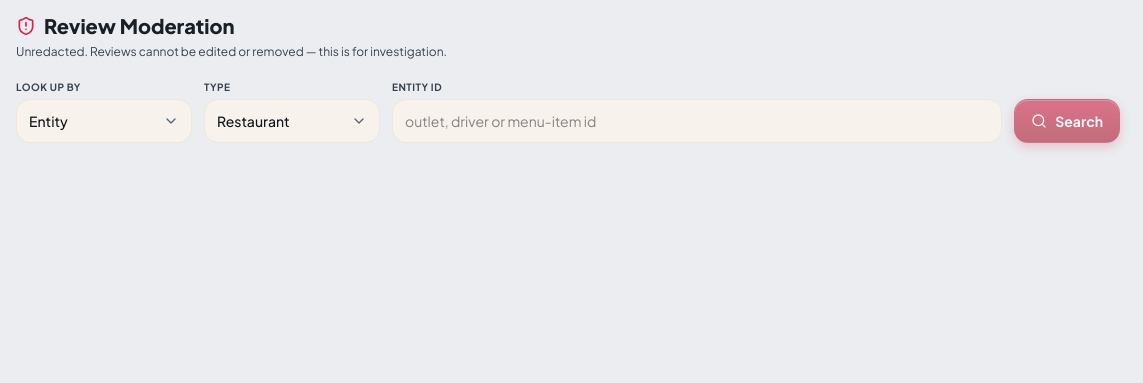
Test: AdminReviewsView › says plainly when nothing was found
Type "77777777-7777-7777-7777-777777777777" into the field named "Entity ID" at (697, 121), box [392,99,1002,143]
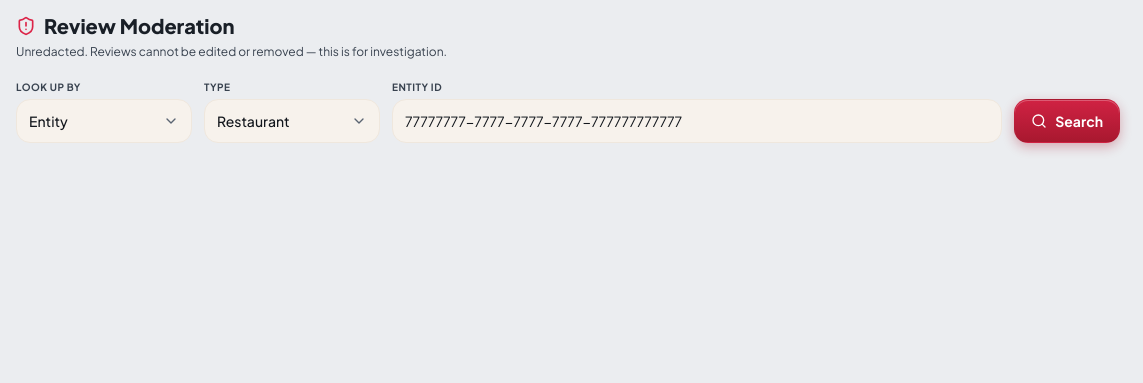
Click the button "Search" at (1067, 121), box [1014,99,1120,143]
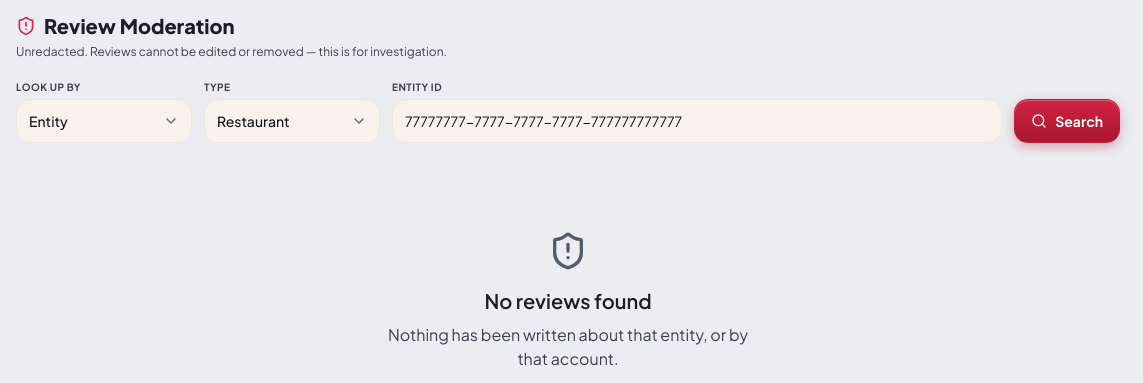
Check: the heading "No reviews found" is shown, box [484,287,652,315]
